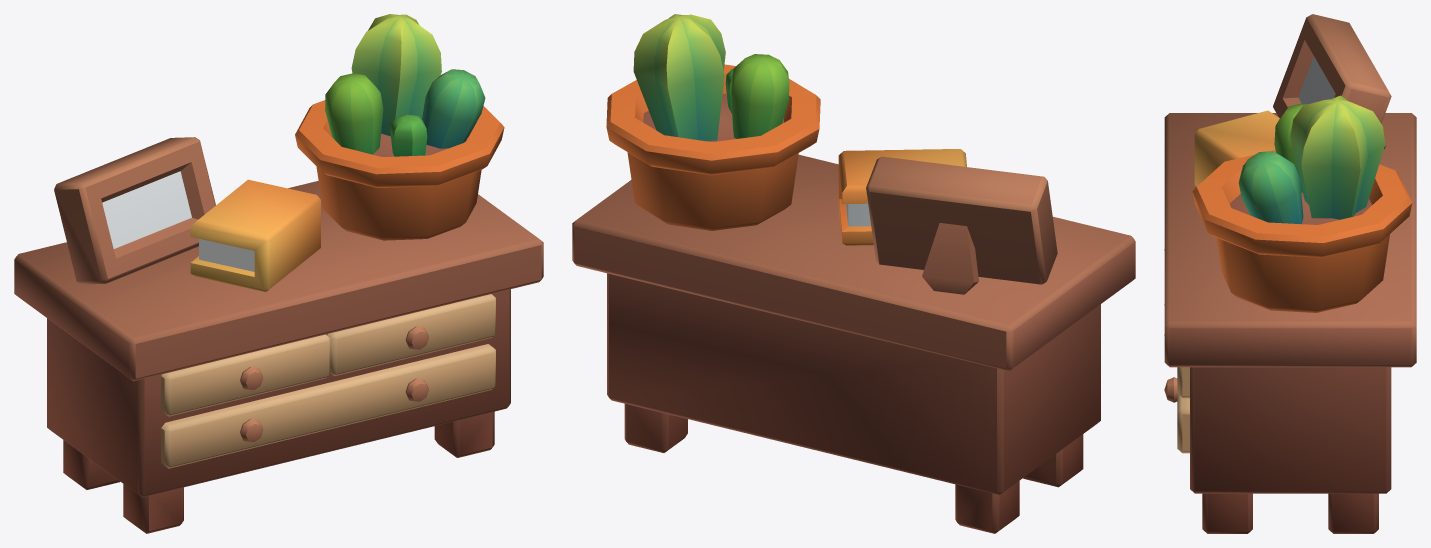
The model's file is cabinet_medium_decorated.obj.
3 renders of one model, left to right at view 1: azimuth 30°, elevation 25°; view 2: azimuth 150°, elevation 25°; view 3: azimuth 270°, elevation 25°, orthographic. The views are drawn at different scales.
Visible parts, largest first — view 1: cabinet_medium_decorated_Cube.049; view 2: cabinet_medium_decorated_Cube.049; view 3: cabinet_medium_decorated_Cube.049.
Part boxes in pixels (bbox=[...]): cabinet_medium_decorated_Cube.049: bbox=[14, 14, 543, 533]; cabinet_medium_decorated_Cube.049: bbox=[572, 14, 1135, 533]; cabinet_medium_decorated_Cube.049: bbox=[1164, 14, 1416, 533].
Bounding box in the file's own units: 2.04 × 1.83 × 1.
1 material, 1 textured.
